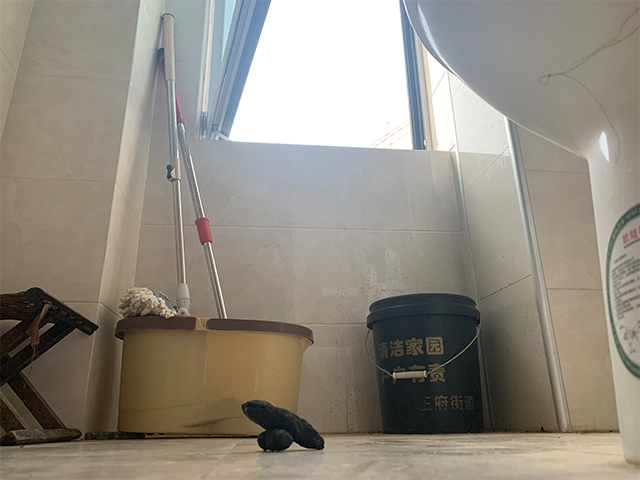feces: (237, 398, 326, 452)
stool: (1, 285, 101, 447)
